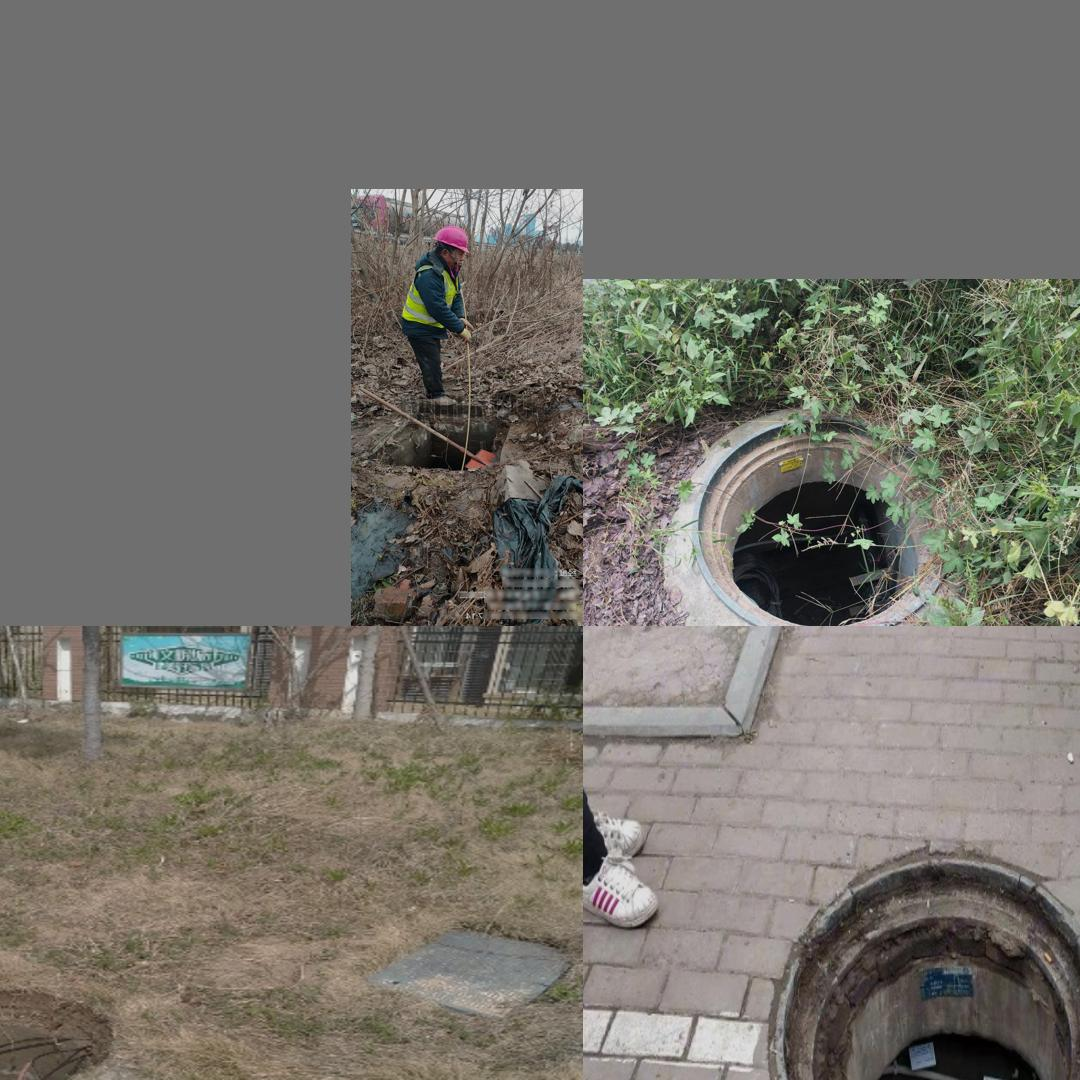lose: (763, 838, 1080, 1080), (679, 407, 969, 622), (0, 970, 115, 1080), (366, 418, 513, 474)
